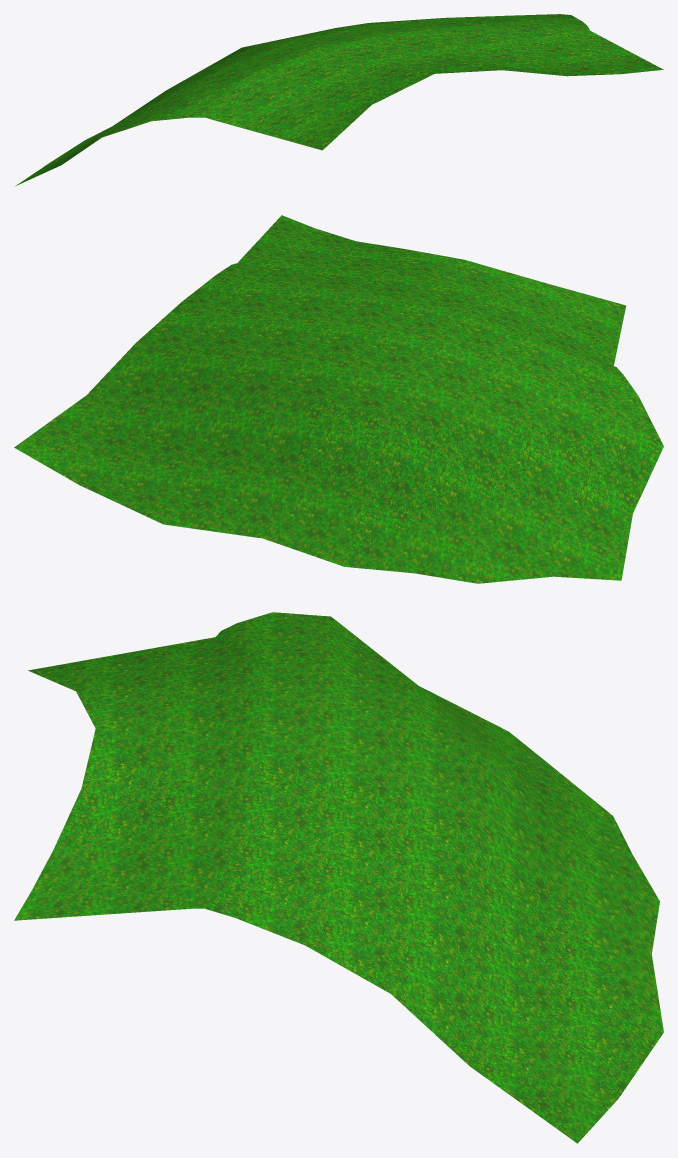
Rendered from HTOWN01_PS29.fbx.
3 renders of one model, top to bottom at view 1: azimuth 30°, elevation 25°; view 2: azimuth 150°, elevation 25°; view 3: azimuth 270°, elevation 25°, orthographic. The views are drawn at different scales.
Visible parts, largest first — view 1: HTOWN01_PS29; view 2: HTOWN01_PS29; view 3: HTOWN01_PS29.
Boxes of the visible parts, bbox=[...] form: HTOWN01_PS29: bbox=[15, 14, 663, 186]; HTOWN01_PS29: bbox=[14, 215, 663, 583]; HTOWN01_PS29: bbox=[14, 612, 663, 1143].
Bounding box in the file's own units: 258533 × 63962 × 167824.
2 materials, 2 textured.
